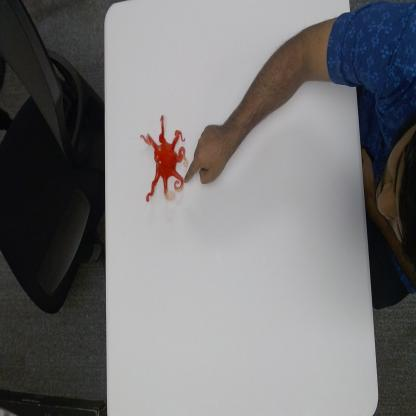Arm: (234, 6, 359, 151)
Hand: (182, 120, 234, 189)
Octopus: (139, 112, 189, 204)
